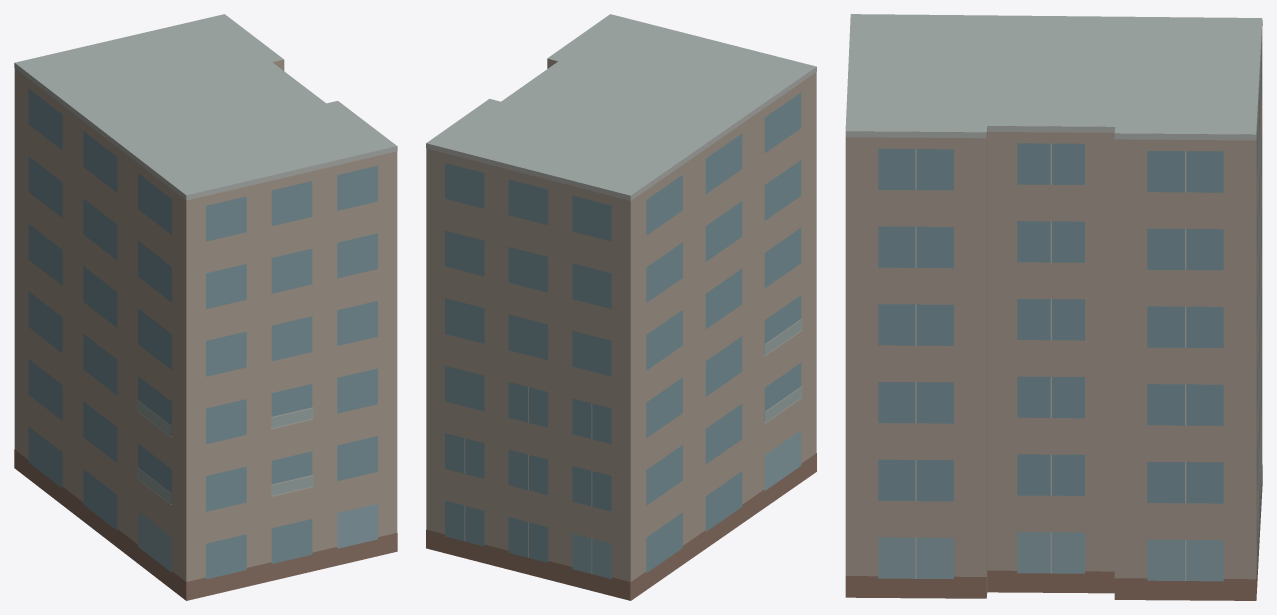
File: survey-upis-33031128.glb
The picture shows the model from 3 angles, left to right: view 1: azimuth 30°, elevation 25°; view 2: azimuth 150°, elevation 25°; view 3: azimuth 270°, elevation 25°; orthographic projection. The views are drawn at different scales.
Visible parts, largest first — view 1: survey-upis-33031128.tmp; view 2: survey-upis-33031128.tmp; view 3: survey-upis-33031128.tmp.
Boxes of the visible parts, bbox=[...] form: survey-upis-33031128.tmp: bbox=[14, 14, 397, 600]; survey-upis-33031128.tmp: bbox=[426, 14, 816, 600]; survey-upis-33031128.tmp: bbox=[845, 14, 1262, 600].
Bounding box in the file's own units: 10.6 × 19.1 × 15.48.
